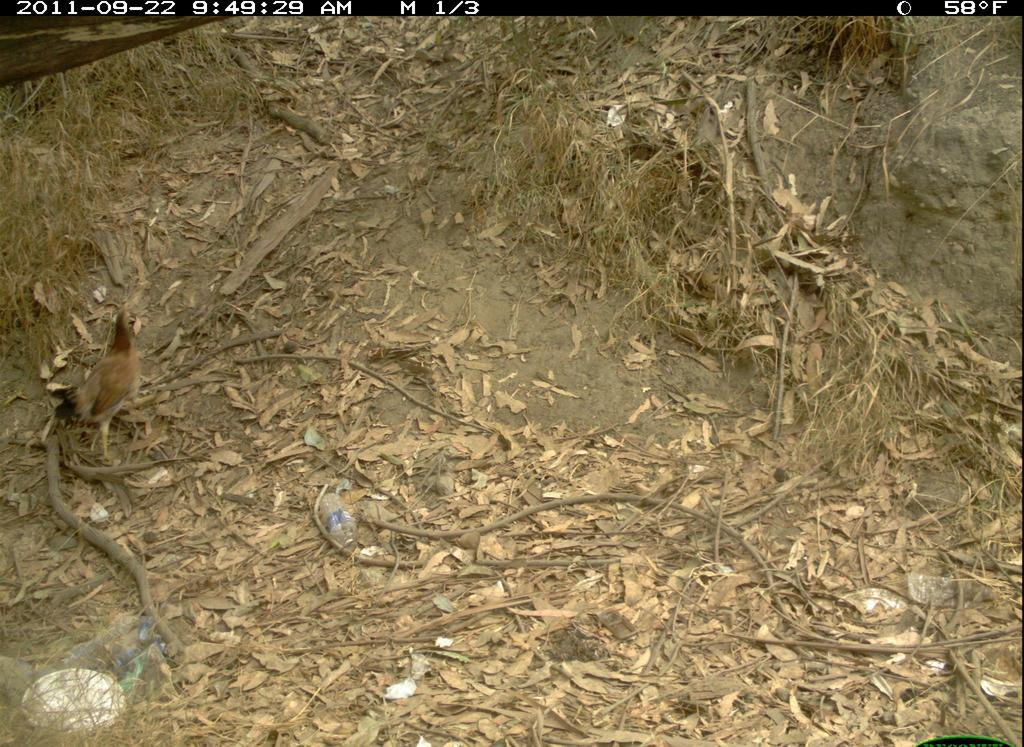bird: (48, 303, 150, 469)
